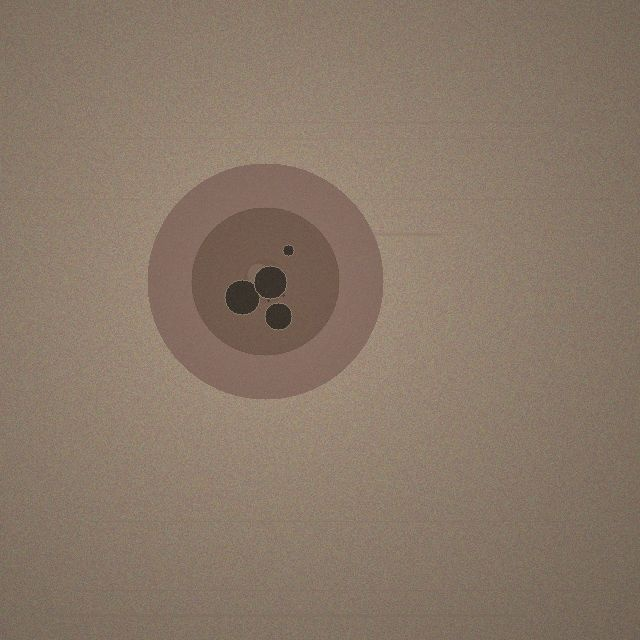shrinkage: (147, 163, 383, 399)
